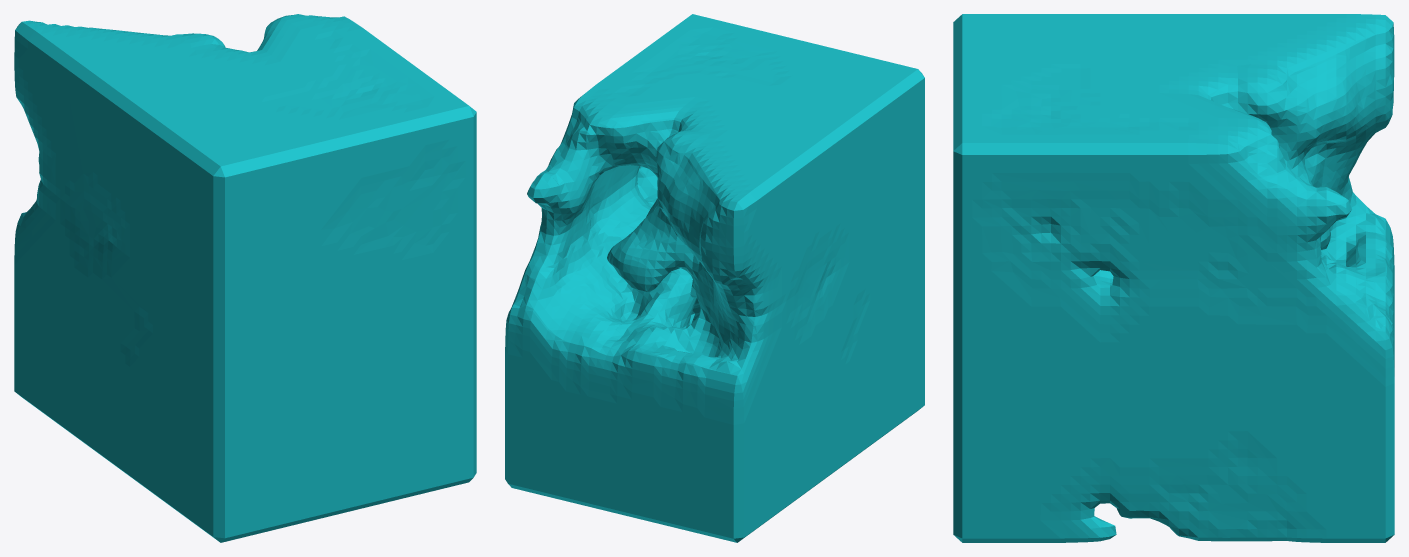
The picture shows the model from 3 angles, left to right: view 1: azimuth 30°, elevation 25°; view 2: azimuth 150°, elevation 25°; view 3: azimuth 270°, elevation 25°; orthographic projection. The views are drawn at different scales.
Parts seen in each view (by area): view 1: Liquid_Domain; view 2: Liquid_Domain; view 3: Liquid_Domain.
Part boxes in pixels (bbox=[...]): Liquid_Domain: bbox=[14, 14, 476, 542]; Liquid_Domain: bbox=[505, 14, 924, 542]; Liquid_Domain: bbox=[953, 14, 1394, 542].
Bounding box in the file's own units: 79.09 × 108 × 108.
